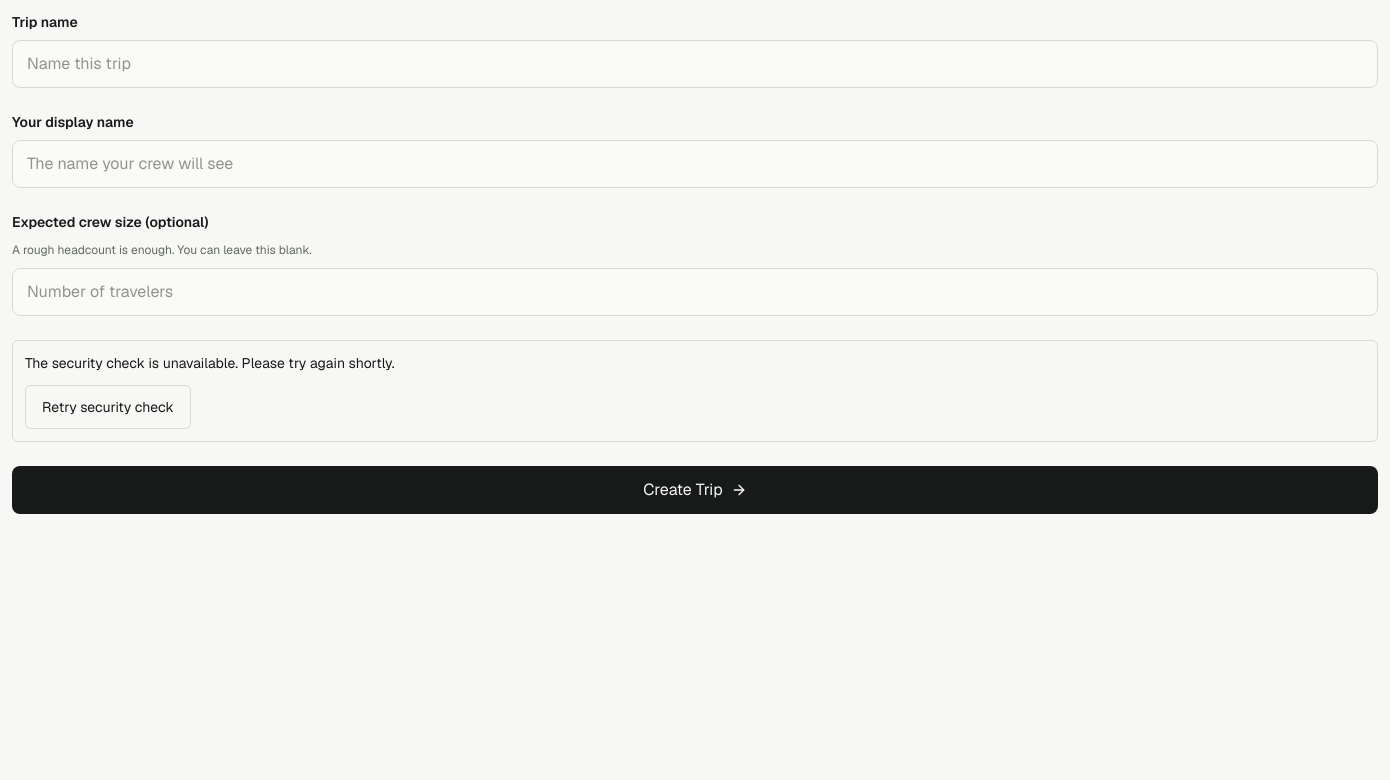
Test case: CreateTripForm › renders only a safe mapped error message
The width and height of the screenshot is (1390, 780).
In the field labelled "Trip name": coordinates (695, 64) top-left (12, 40), bottom-right (1378, 88), type "Boundary Waters"
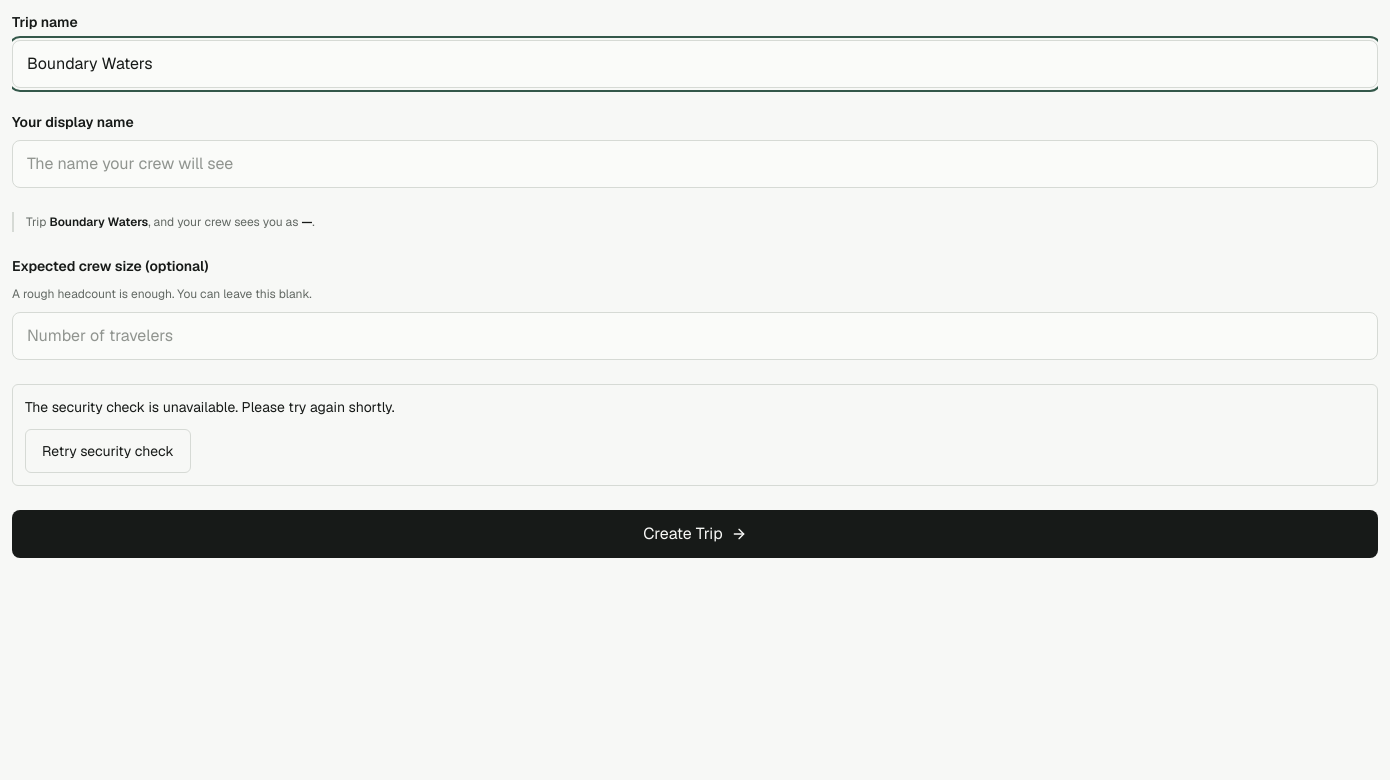
In the field labelled "Your display name": coordinates (695, 164) top-left (12, 140), bottom-right (1378, 188), type "Maya"
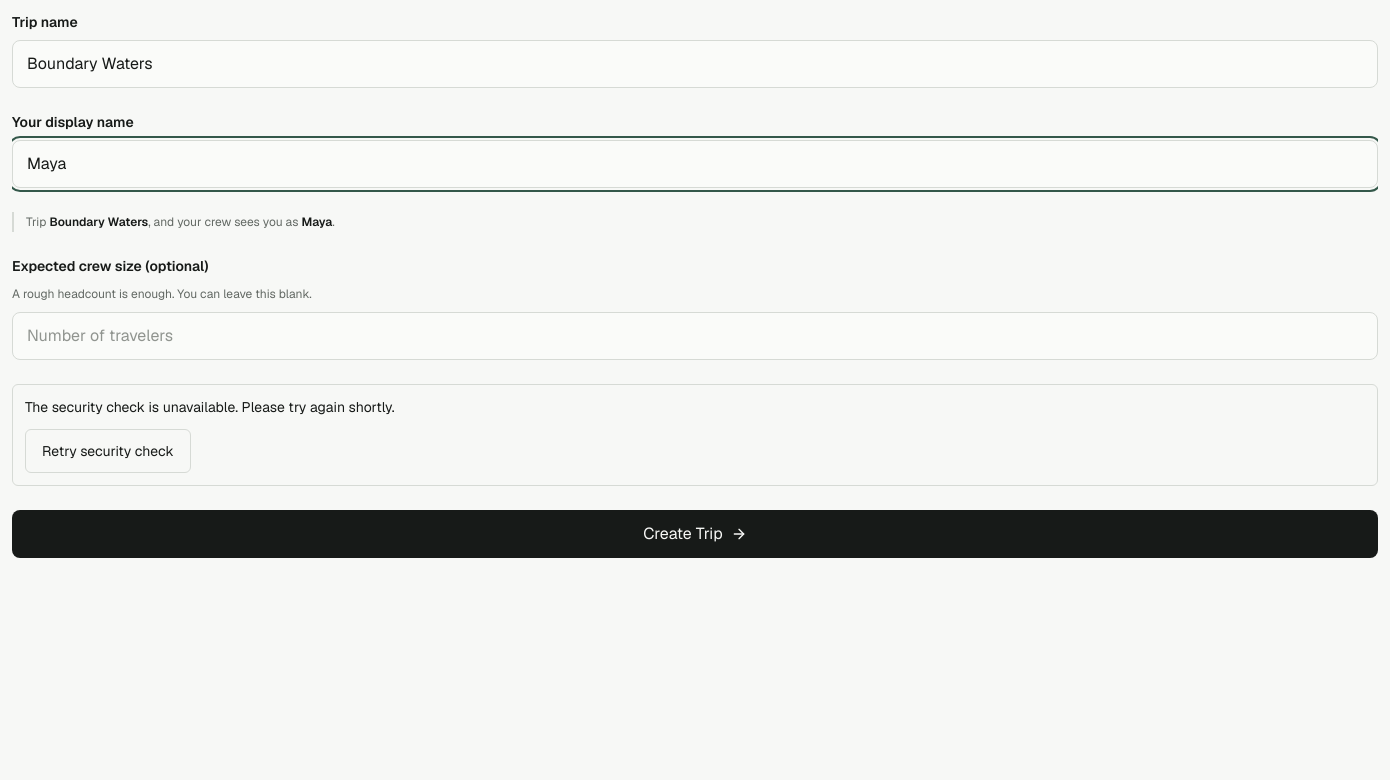
Click the button "Create Trip": coordinates (695, 534) top-left (12, 510), bottom-right (1378, 558)
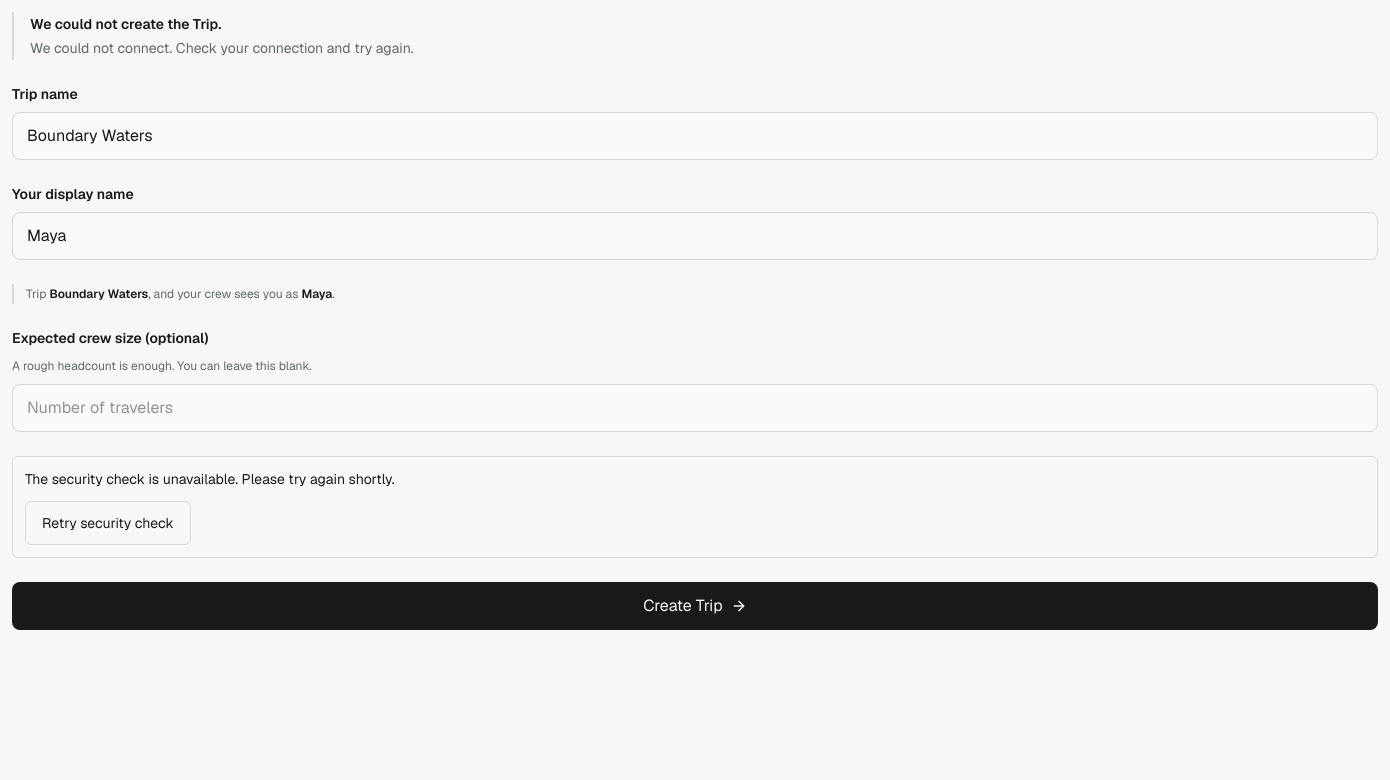
expect the message that starts with "We could not create the Trip." shows "connection": met, box top-left (30, 39), bottom-right (414, 57)
